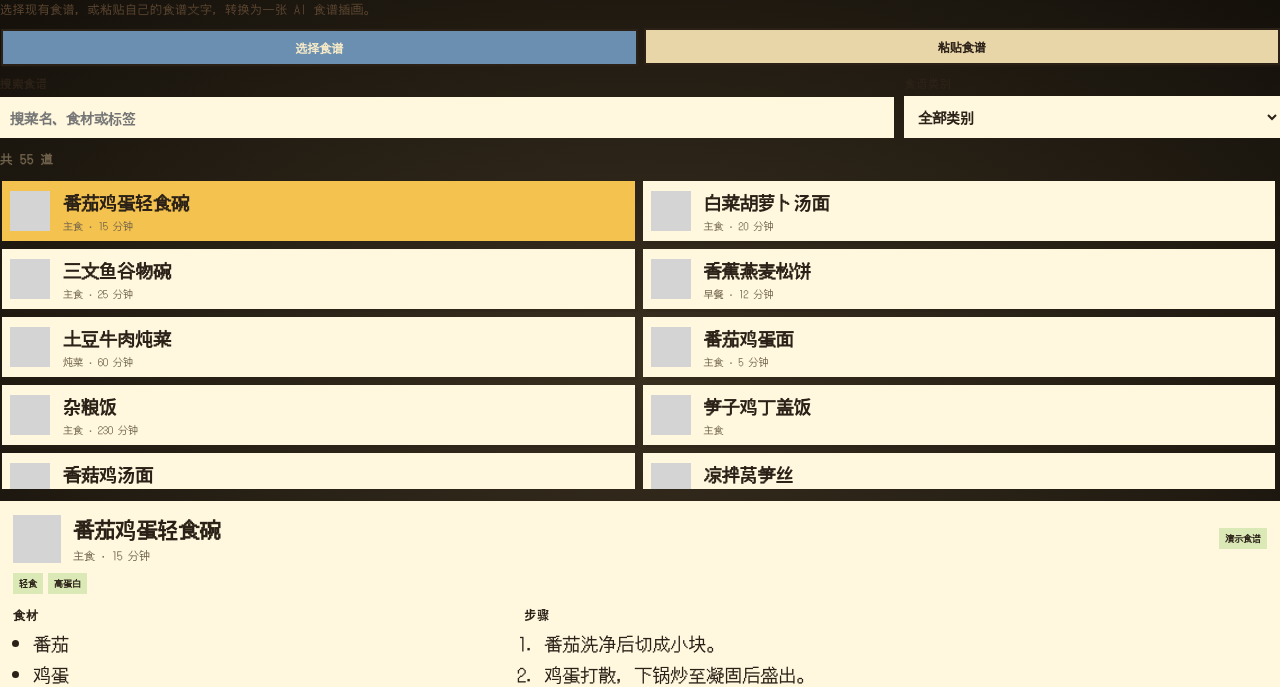
Test: RecipeIllustrationStudioModal › uses the shared searchable and categorized preset picker
Type "红烧茄子" into the search field labelled "搜索食谱" at (447, 118), box [0,97,894,138]
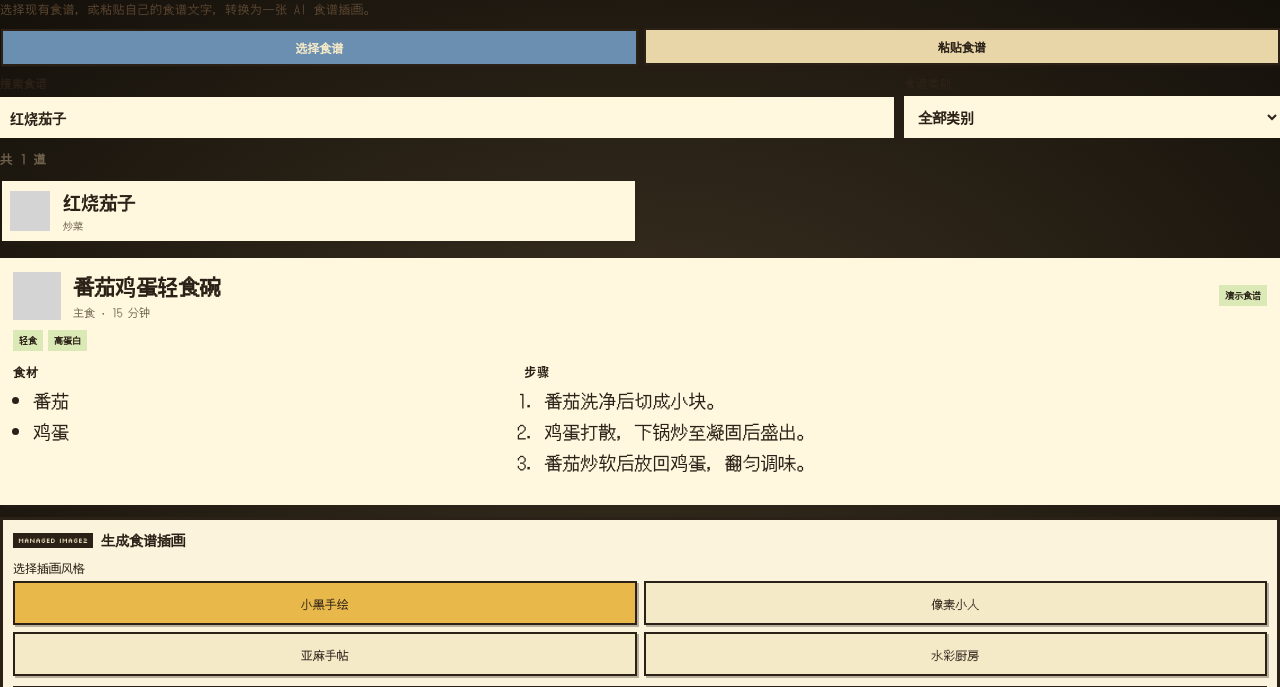
Result: the button with aria-label "选择红烧茄子" is shown at [2,181,634,241]
